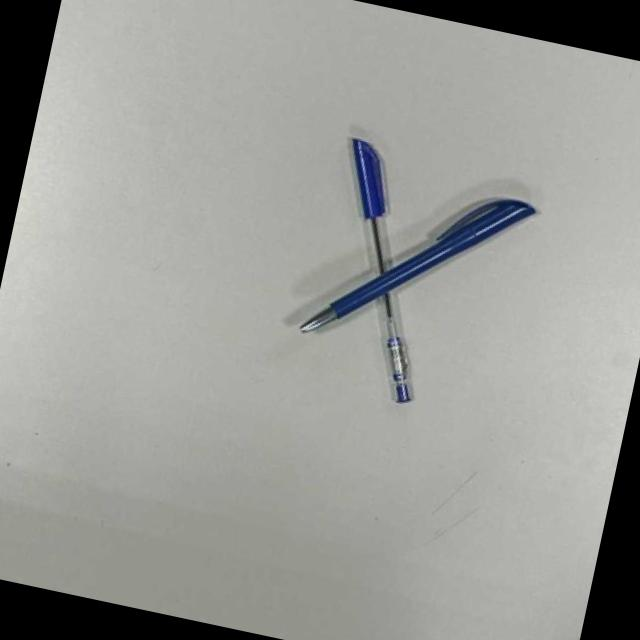caneta: (289, 183, 536, 336), (351, 135, 416, 402)
